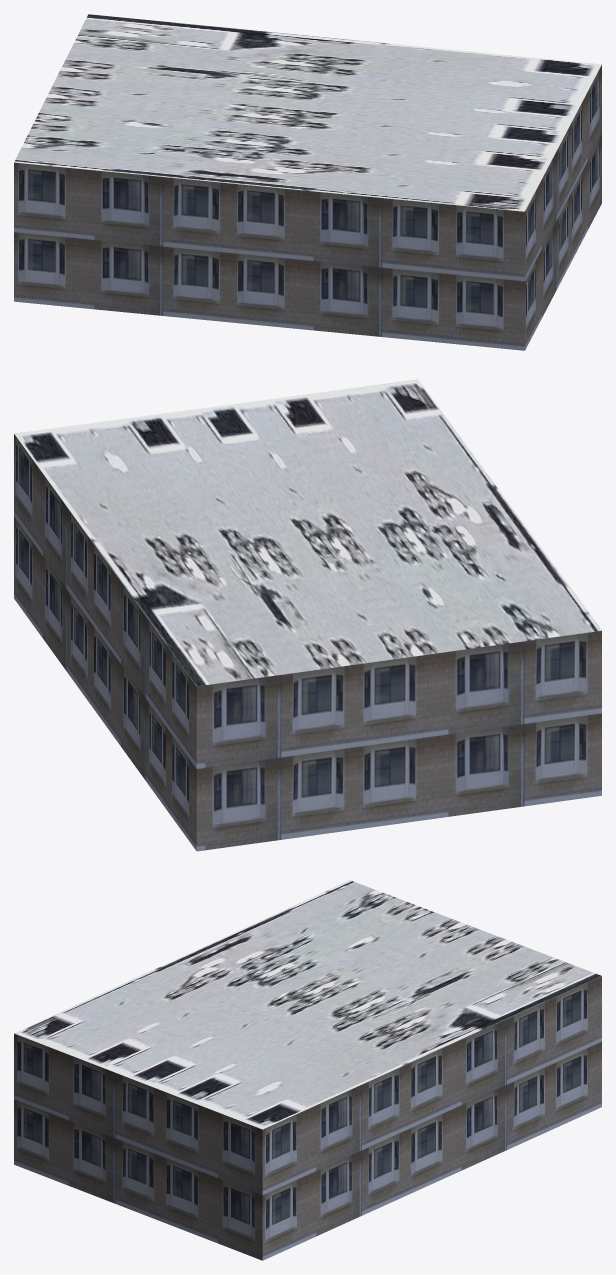
Rendered from ResTex__4107.fbx.
3 views of the same model, one above another, from view 1: azimuth 30°, elevation 25°; view 2: azimuth 150°, elevation 25°; view 3: azimuth 270°, elevation 25° (orthographic). The views are drawn at different scales.
Visible parts, largest first — view 1: CityEngineMaterial_3_m, CityEngineMaterial_4_m; view 2: CityEngineMaterial_4_m, CityEngineMaterial_3_m; view 3: CityEngineMaterial_3_m, CityEngineMaterial_4_m.
Boxes of the visible parts, left/top/right/bottom form: CityEngineMaterial_3_m: left=14, top=65, right=601, bottom=350; CityEngineMaterial_4_m: left=14, top=14, right=601, bottom=211; CityEngineMaterial_4_m: left=14, top=379, right=601, bottom=686; CityEngineMaterial_3_m: left=14, top=434, right=601, bottom=851; CityEngineMaterial_3_m: left=14, top=976, right=601, bottom=1260; CityEngineMaterial_4_m: left=14, top=880, right=601, bottom=1129.
Size of the model in its own units: 24.46 by 6 by 24.37.
Materials: 2 (2 with a texture image).
